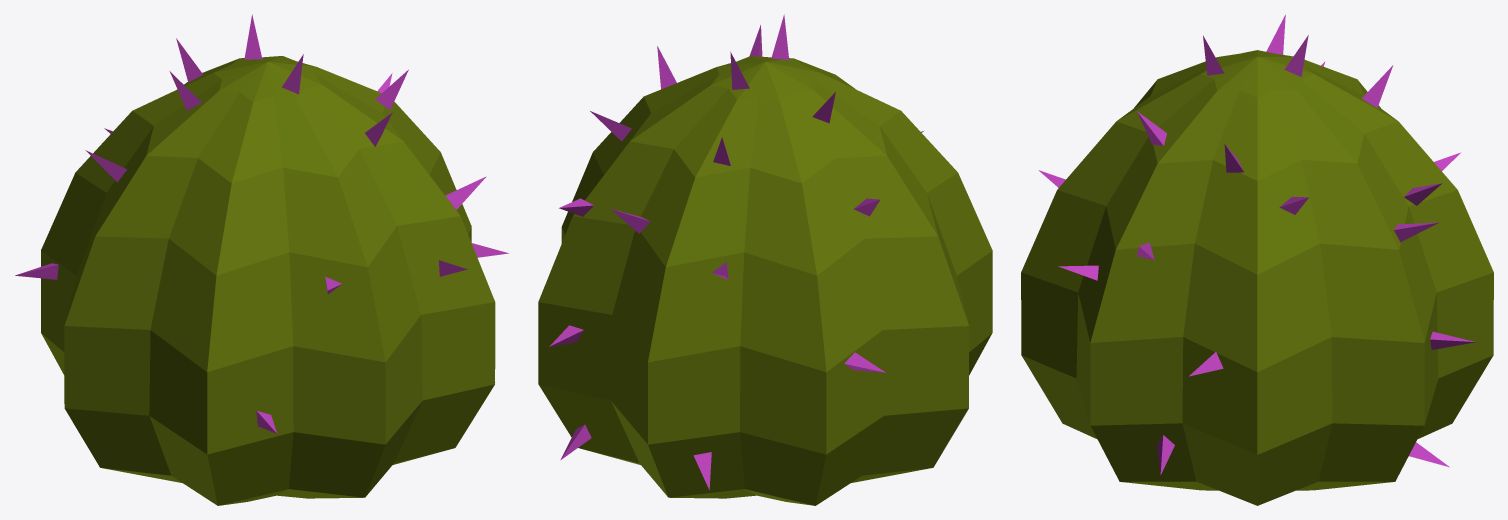
File: Cactus_14_B.fbx
3 views of the same model, side by side, from view 1: azimuth 30°, elevation 25°; view 2: azimuth 150°, elevation 25°; view 3: azimuth 270°, elevation 25° (orthographic).
Visible parts, largest first — view 1: Cactus_14_B; view 2: Cactus_14_B; view 3: Cactus_14_B.
Boxes of the visible parts, x1,y1,x2,y2 form: Cactus_14_B: [15, 14, 508, 505]; Cactus_14_B: [538, 14, 992, 505]; Cactus_14_B: [1021, 14, 1493, 505].
Bounding box in the file's own units: 154 × 161 × 153.
